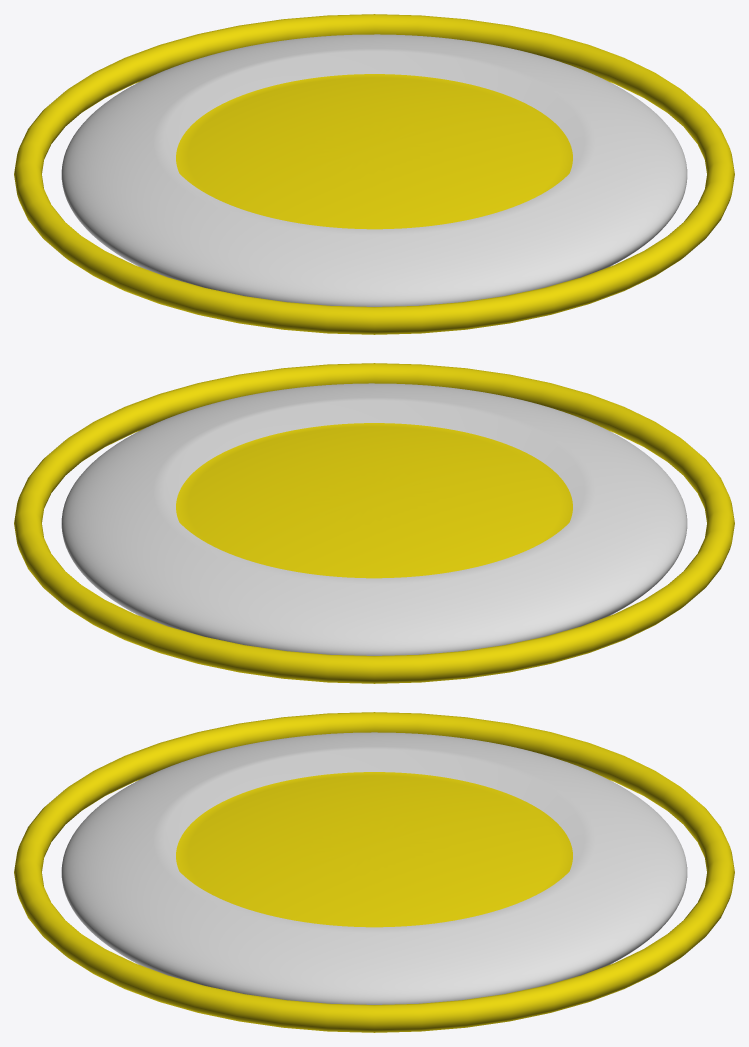
File: Yellow.gltf
3 renders of one model, top to bottom at view 1: azimuth 30°, elevation 25°; view 2: azimuth 150°, elevation 25°; view 3: azimuth 270°, elevation 25°, orthographic.
Visible parts, largest first — view 1: Sphere; view 2: Sphere; view 3: Sphere.
Part boxes in pixels (x1,y1,x2,y2): Sphere: [14, 14, 734, 334]; Sphere: [14, 363, 734, 683]; Sphere: [14, 712, 734, 1032].
Size of the model in its own units: 6.2 by 0.7614 by 6.2.
